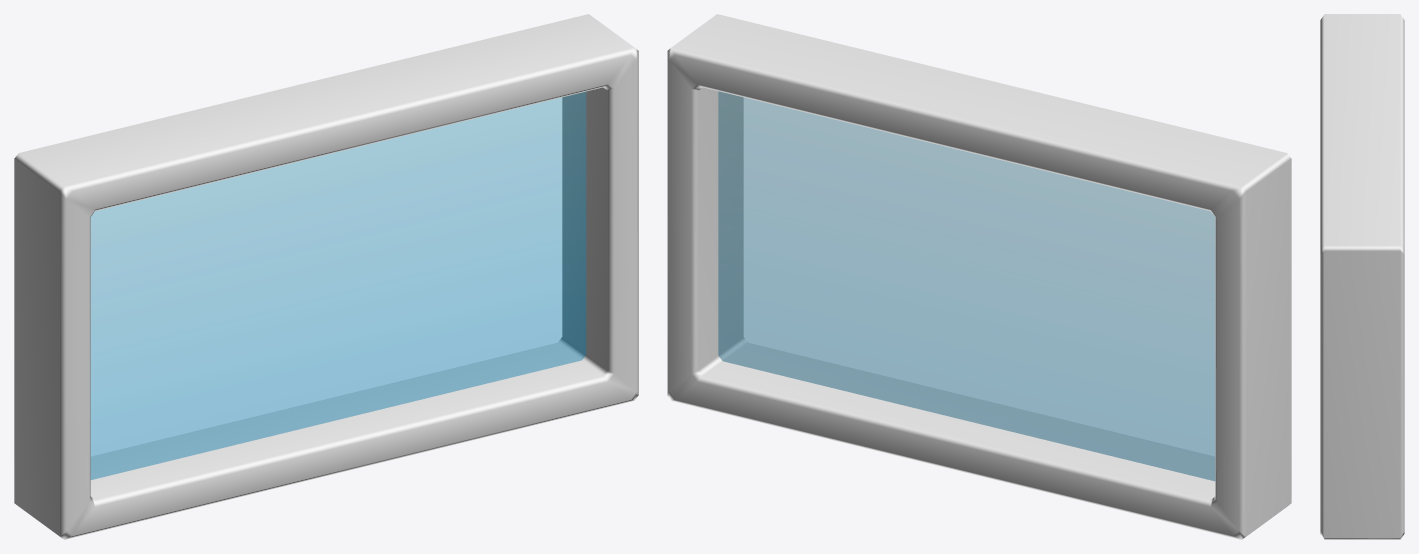
Rendered from Window_White_05.glb.
3 renders of one model, left to right at view 1: azimuth 30°, elevation 25°; view 2: azimuth 150°, elevation 25°; view 3: azimuth 270°, elevation 25°, orthographic. The views are drawn at different scales.
Parts seen in each view (by area): view 1: Window_White_05; view 2: Window_White_05; view 3: Window_White_05.
Boxes of the visible parts, box(x1,y1,x2,y2) form: Window_White_05: box(14, 14, 638, 539); Window_White_05: box(667, 14, 1291, 539); Window_White_05: box(1320, 14, 1404, 539).
Bounding box in the file's own units: 2.64 × 1.54 × 0.4.
Materials: 2 (2 with a texture image).
